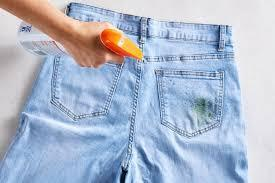earth: (191, 99, 214, 119)
